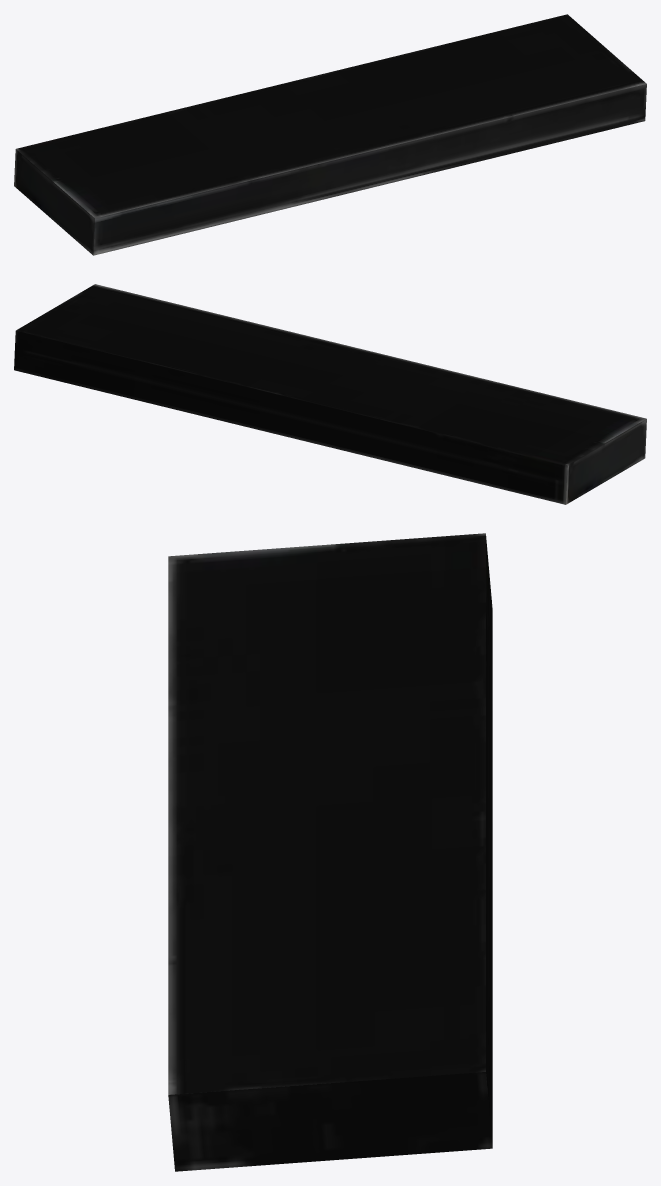
File: cabinet__speaker_panel.glb
3 views of the same model, one above another, from view 1: azimuth 30°, elevation 25°; view 2: azimuth 150°, elevation 25°; view 3: azimuth 270°, elevation 25° (orthographic). The views are drawn at different scales.
Visible parts, largest first — view 1: geometry_0; view 2: geometry_0; view 3: geometry_0.
Part boxes in pixels (box(x1,y1,x2,y2)): geometry_0: box(14, 14, 646, 255); geometry_0: box(14, 284, 646, 504); geometry_0: box(168, 533, 492, 1171).
Bounding box in the file's own units: 0.6 × 0.0519 × 0.1527.
1 material, 1 textured.
